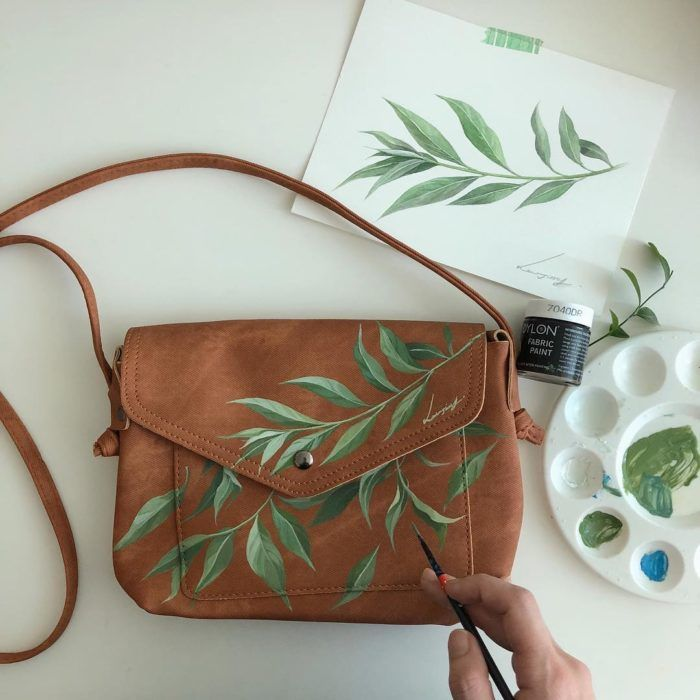cuero: (2, 151, 545, 665)
